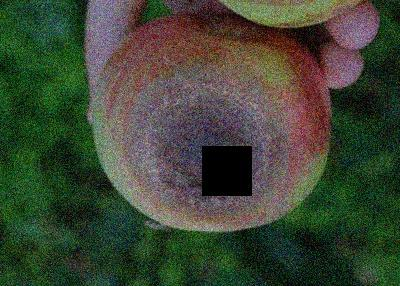rotten apple: (89, 11, 342, 242)
